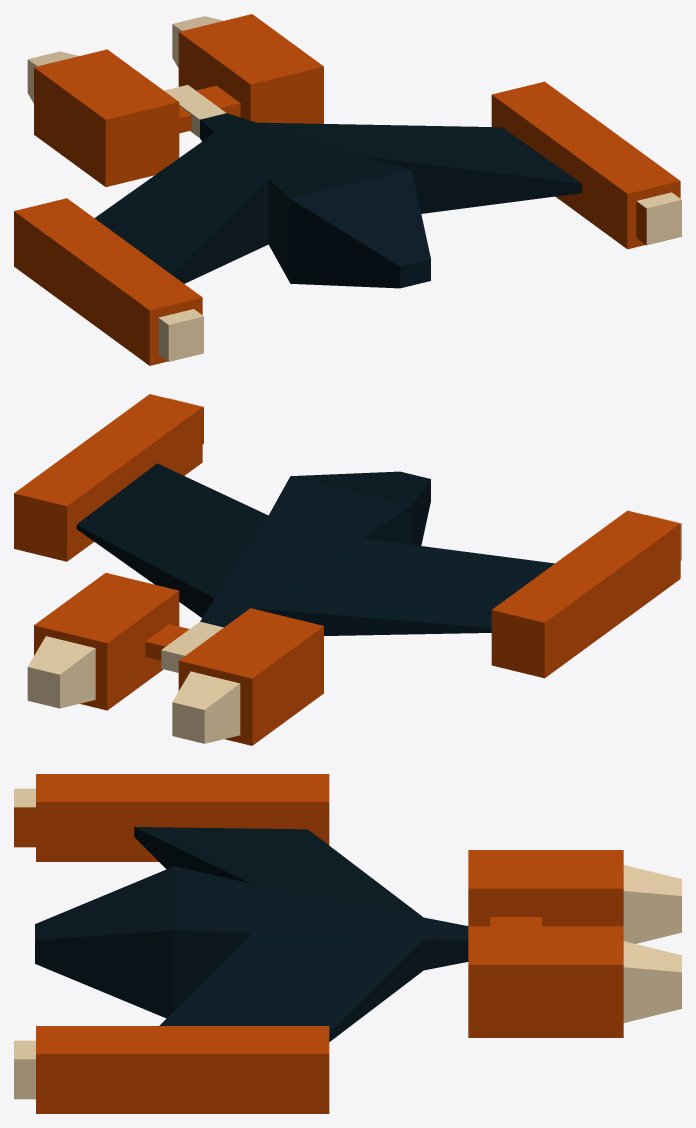
File: space-cart-1-color.fbx
3 renders of one model, top to bottom at view 1: azimuth 30°, elevation 25°; view 2: azimuth 150°, elevation 25°; view 3: azimuth 270°, elevation 25°, orthographic. The views are drawn at different scales.
Parts seen in each view (by area): view 1: Cube, Cube.001, Cube.002; view 2: Cube, Cube.001, Cube.002; view 3: Cube, Cube.001, Cube.002.
Boxes of the visible parts, bbox=[...] form: Cube: bbox=[95, 85, 581, 288]; Cube.001: bbox=[14, 81, 681, 365]; Cube.002: bbox=[27, 14, 323, 186]; Cube: bbox=[76, 463, 554, 672]; Cube.001: bbox=[14, 394, 681, 678]; Cube.002: bbox=[27, 573, 323, 745]; Cube: bbox=[35, 827, 468, 1041]; Cube.001: bbox=[14, 774, 329, 1113]; Cube.002: bbox=[468, 850, 681, 1037].
Bounding box in the file's own units: 909 × 139 × 917.
